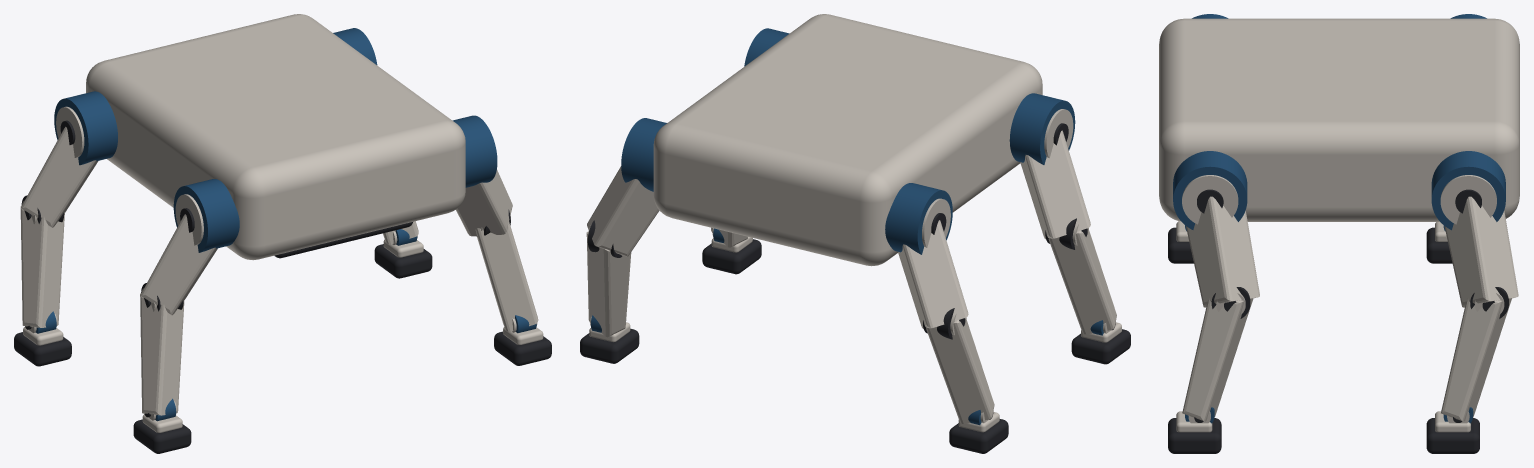
File: anatomy-29.glb
3 views of the same model, side by side, from view 1: azimuth 30°, elevation 25°; view 2: azimuth 150°, elevation 25°; view 3: azimuth 270°, elevation 25° (orthographic). The views are drawn at different scales.
Visible parts, largest first — view 1: body, shin, hips, thigh, feet, toe-caps, ankles, pan; view 2: body, thigh, shin, hips, feet, toe-caps, knees, ankles; view 3: body, thigh, shin, hips, feet, toe-caps, knees, ankles.
Part boxes in pixels (x1,y1,x2,y2): body: (86, 14, 465, 260); shin: (20, 205, 538, 415); hips: (54, 28, 497, 252); thigh: (21, 126, 512, 315); feet: (14, 244, 551, 453); toe-caps: (23, 239, 543, 432); ankles: (25, 229, 537, 421); pan: (274, 222, 412, 258); body: (653, 14, 1042, 266); thigh: (587, 130, 1090, 328); shin: (586, 227, 1116, 423); hips: (621, 28, 1075, 254); feet: (580, 239, 1130, 453); toe-caps: (589, 237, 1121, 432); knees: (587, 218, 1088, 339); ankles: (590, 228, 1115, 425); body: (1159, 18, 1519, 221); thigh: (1186, 196, 1518, 307); shin: (1182, 298, 1511, 421); hips: (1173, 14, 1505, 230); feet: (1168, 227, 1479, 453); toe-caps: (1176, 221, 1470, 432); knees: (1211, 287, 1508, 318); ankles: (1185, 225, 1473, 423).
Bounding box in the file's own units: 2.39 × 1.48 × 1.73.
